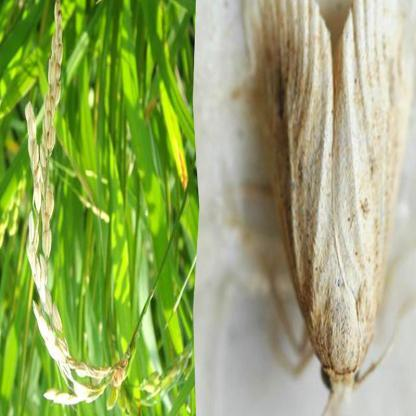stem-borer: (239, 0, 416, 416)
